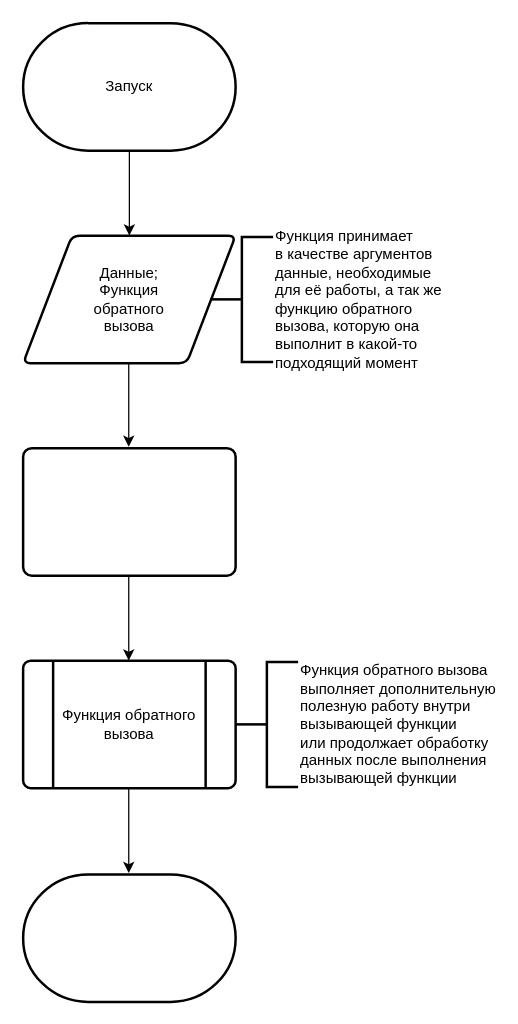
This 518x1024 diagram has some shape labels left out. The box of each missing label's shape, as (x1, y1, x2, y2) in pixels:
Останов: (21, 872, 236, 1002)
Функция выполняет свои операции с переданными данными: (21, 446, 236, 576)
